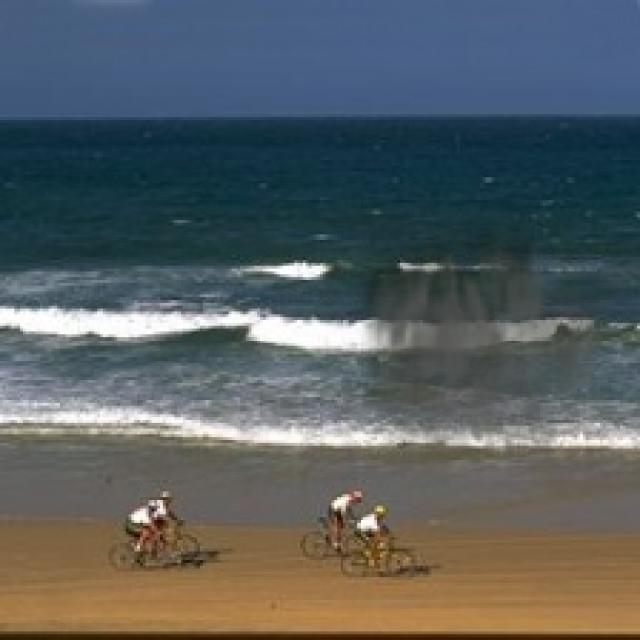smoke: (349, 228, 600, 488)
